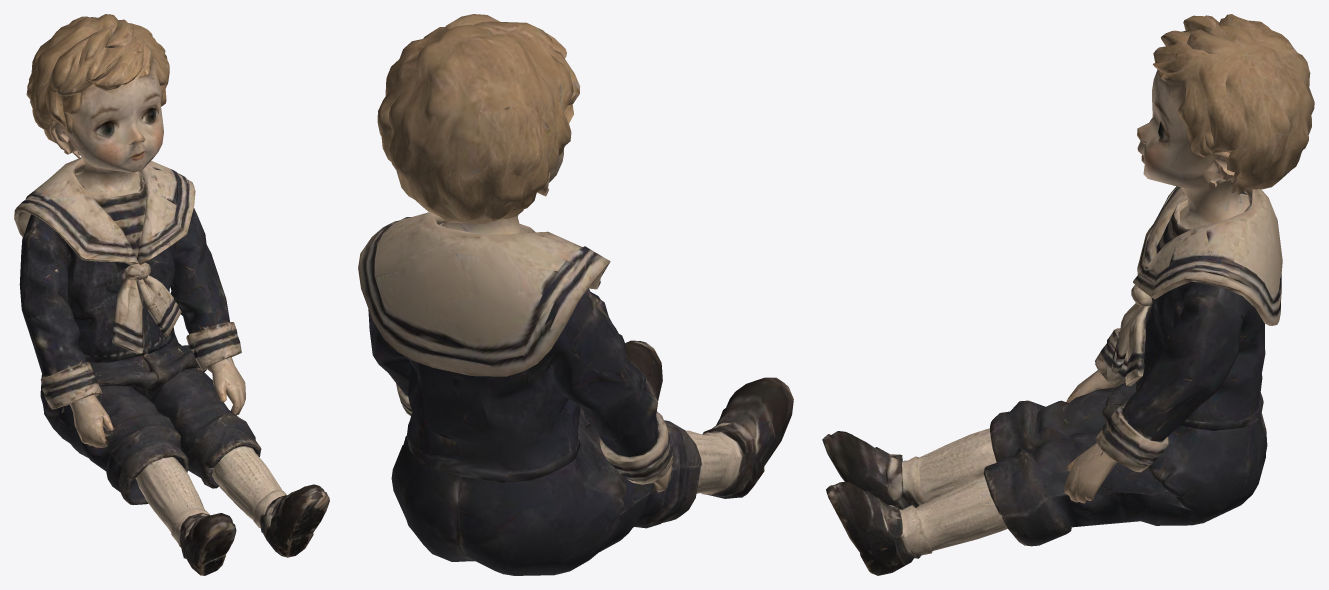
The model's file is up_doll_sailor.glb.
The picture shows the model from 3 angles, left to right: view 1: azimuth 30°, elevation 25°; view 2: azimuth 150°, elevation 25°; view 3: azimuth 270°, elevation 25°; orthographic projection. The views are drawn at different scales.
Parts seen in each view (by area): view 1: up_doll_sailor; view 2: up_doll_sailor; view 3: up_doll_sailor.
Boxes of the visible parts, x1,y1,x2,y2 form: up_doll_sailor: [14, 14, 329, 575]; up_doll_sailor: [358, 14, 793, 575]; up_doll_sailor: [822, 14, 1314, 575].
Bounding box in the file's own units: 0.2377 × 0.52 × 0.4409.
Materials: 1 (1 with a texture image).
